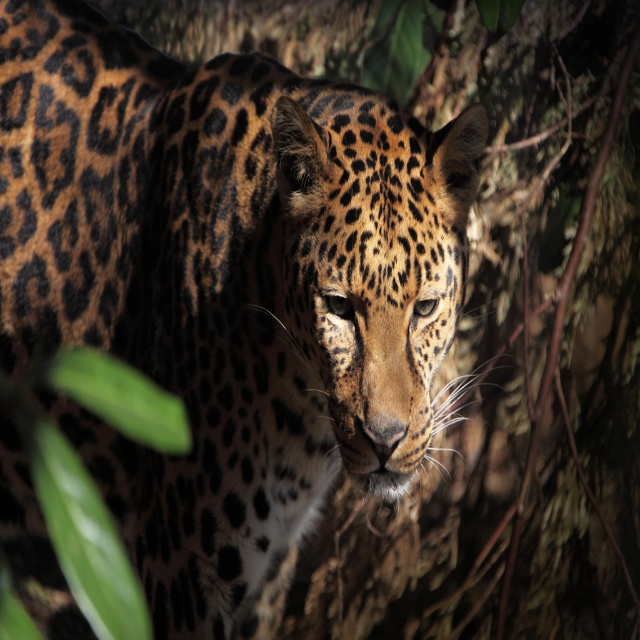Jaguar: (0, 0, 515, 640)
